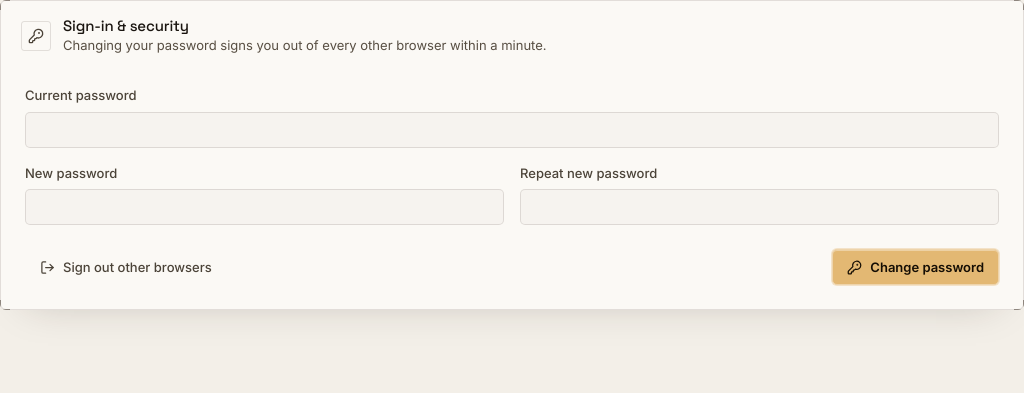
SecurityCard › changes the password
Type "old-pass-1" into the password field labelled "Current password". click: (512, 130)
box: x1=25 y1=112 x2=999 y2=148
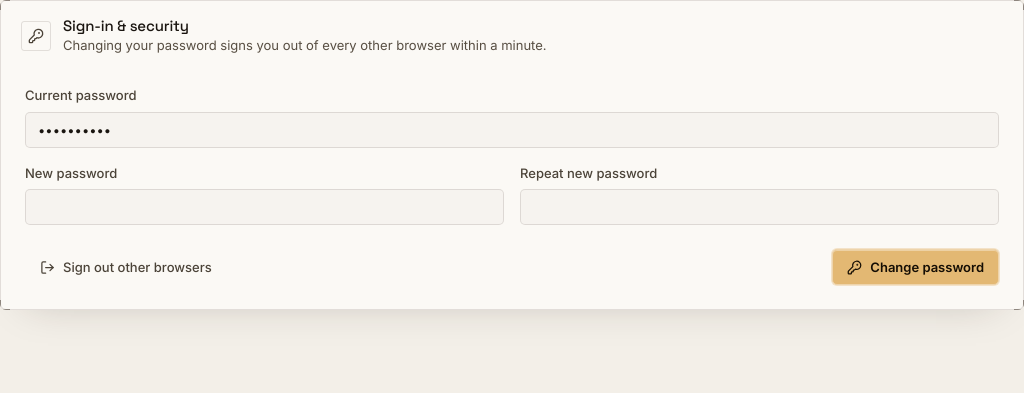
Type "new-pass-2" into the password field labelled "New password". click: (264, 207)
box: x1=25 y1=189 x2=504 y2=225
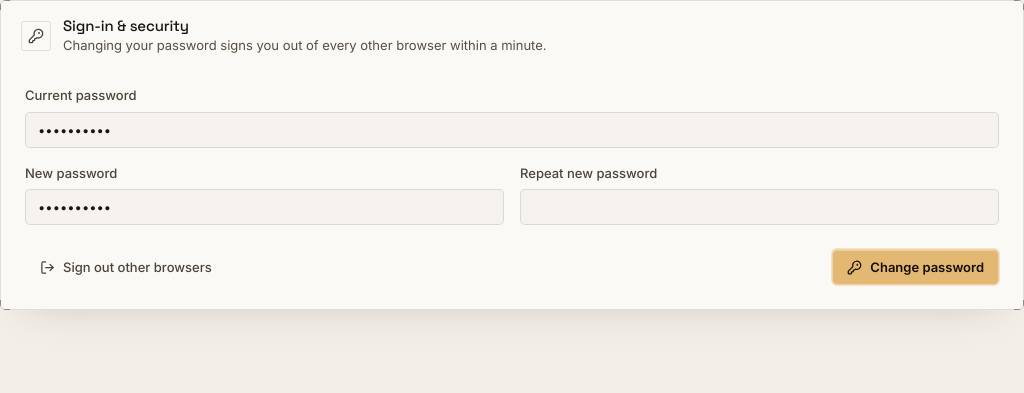
Type "new-pass-2" into the password field labelled "Repeat new password". click: (760, 207)
box: x1=520 y1=189 x2=999 y2=225
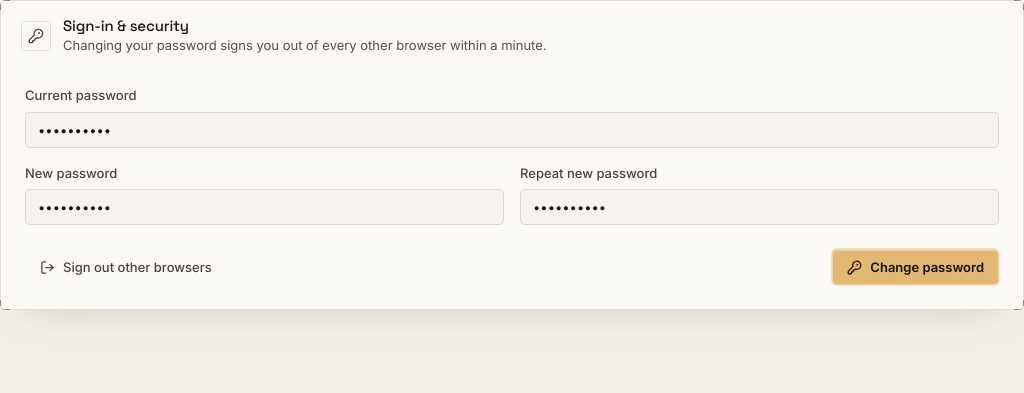
Click the button "Change password". click: (916, 267)
box: x1=832 y1=249 x2=999 y2=285
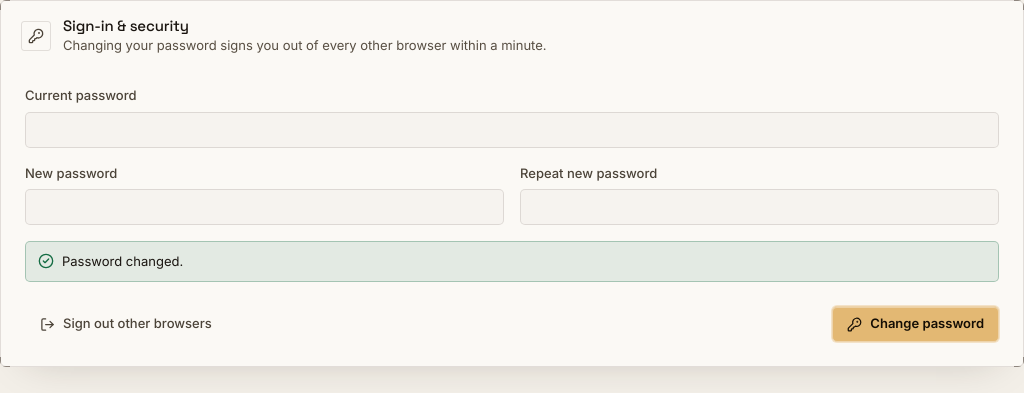
Expected: the text "Password changed." is shown, x1=62 y1=252 x2=183 y2=271
